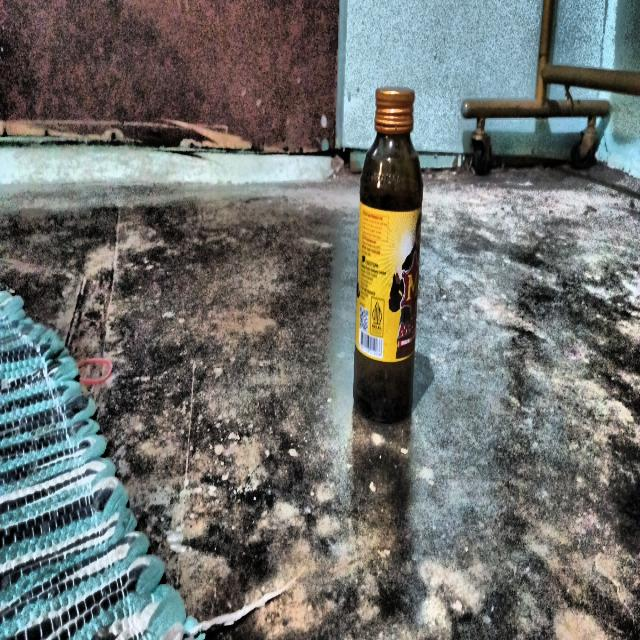Bottle: (352, 83, 424, 425)
